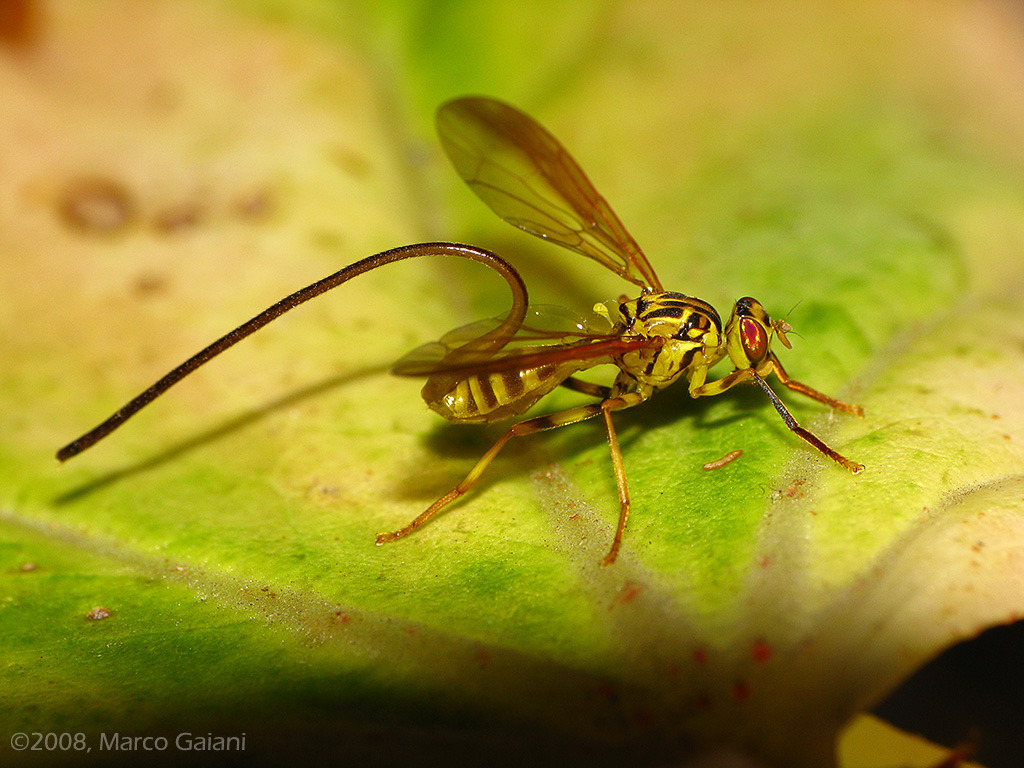Fruit fly: (122, 144, 796, 620)
